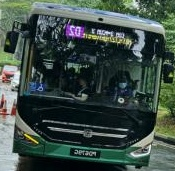bus: (64, 24, 83, 38)
